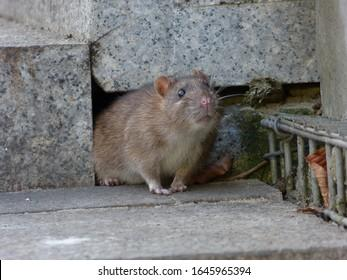rat: (91, 71, 225, 194)
